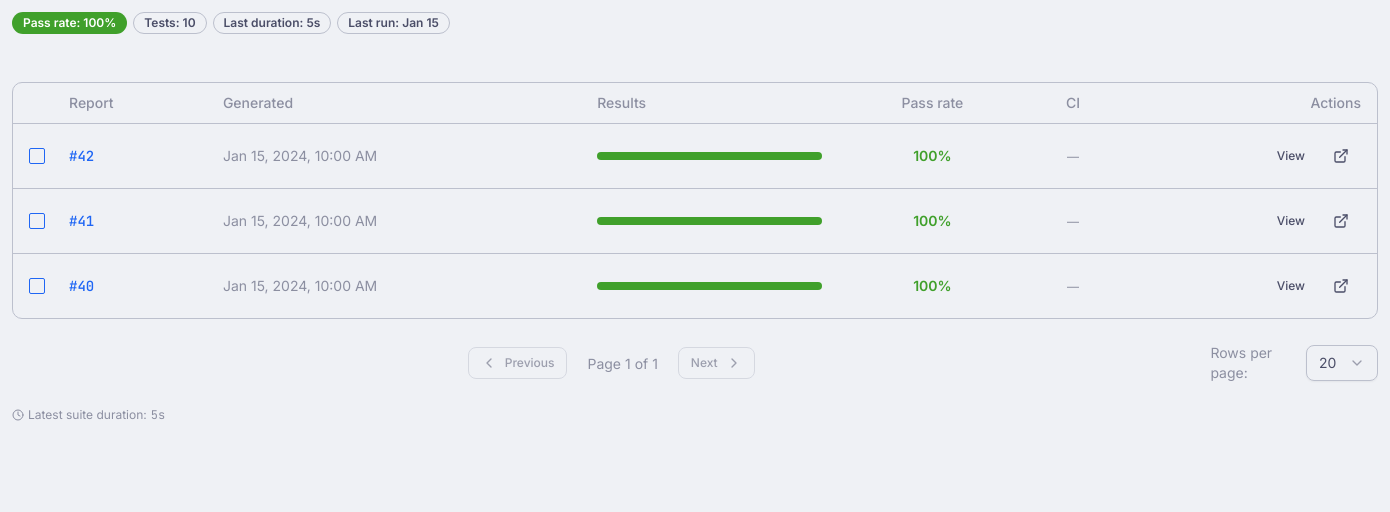
Test case: OverviewTab › links reports and two selected builds by numeric project id, blocks a third, and clears
Click the checkbox named "Select report #41" at (37, 220), box [29,212,45,228]
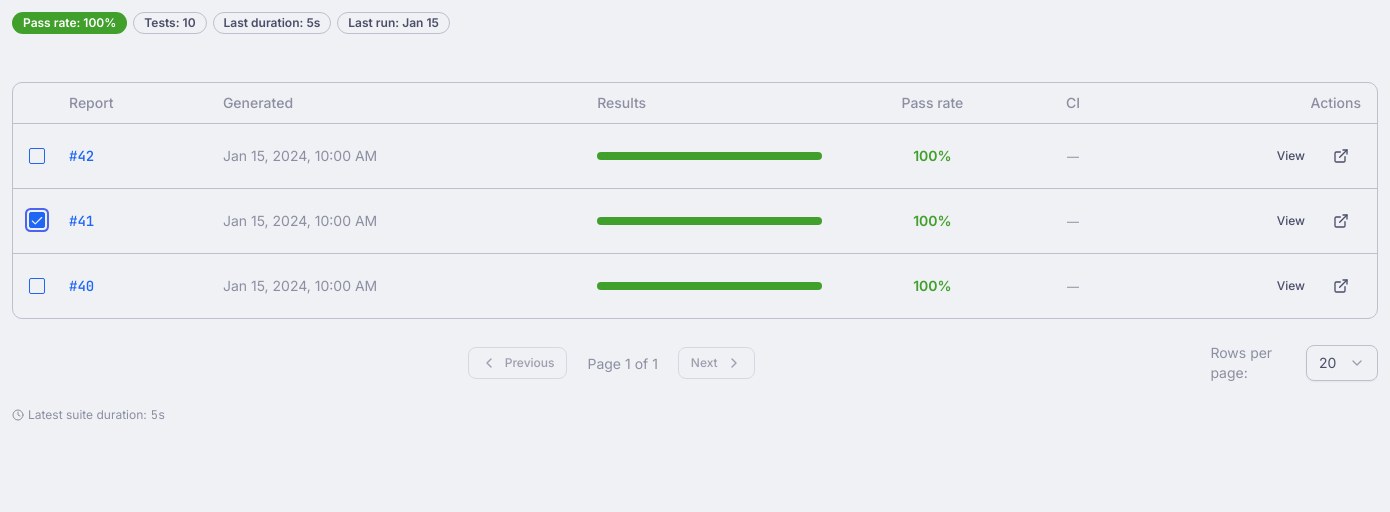
Click the checkbox named "Select report #40" at (37, 286), box [29,278,45,294]
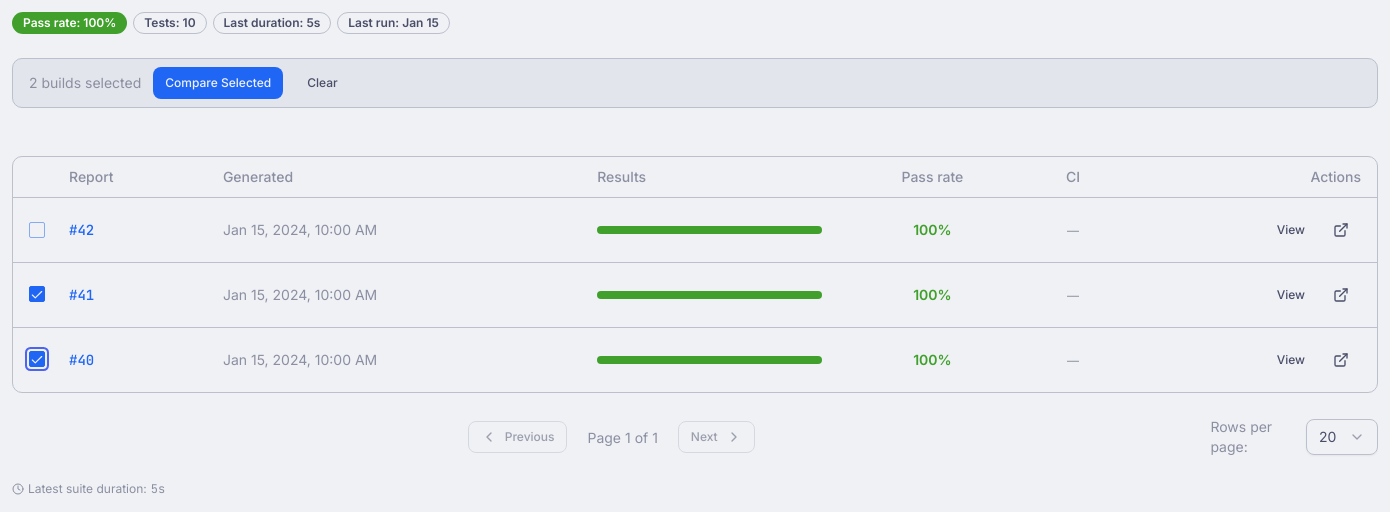
Click the button "Clear" at (323, 83), box [295,67,350,99]
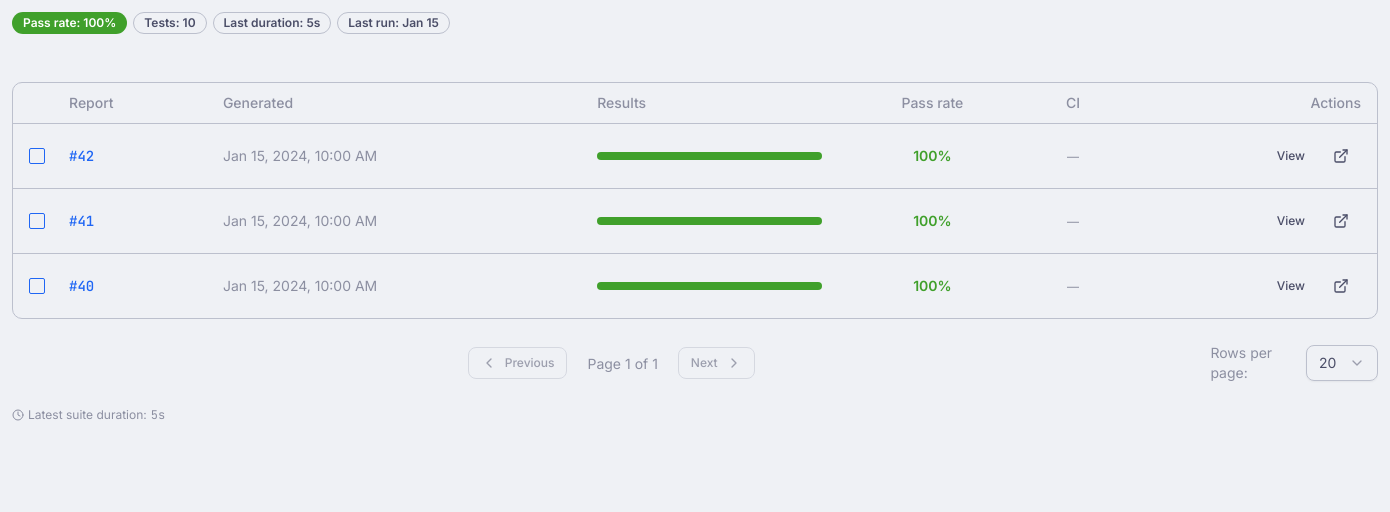
Now the link "Compare Selected" is gone
